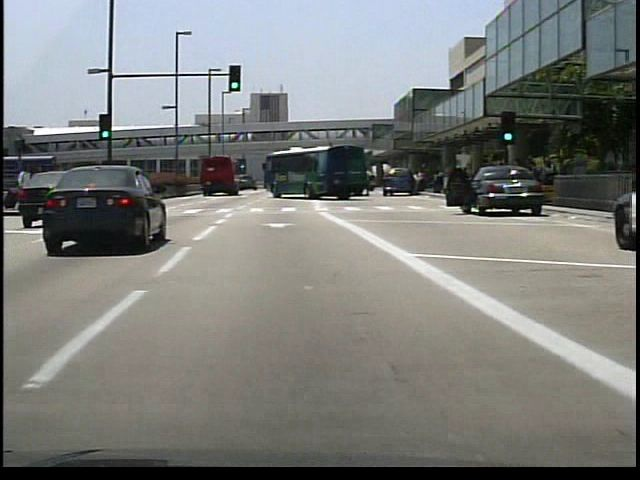person: (409, 168, 421, 195)
